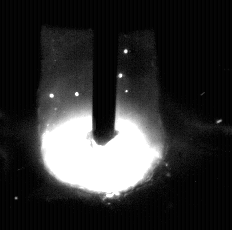arame: (93, 0, 117, 145)
poca: (38, 0, 167, 230)
